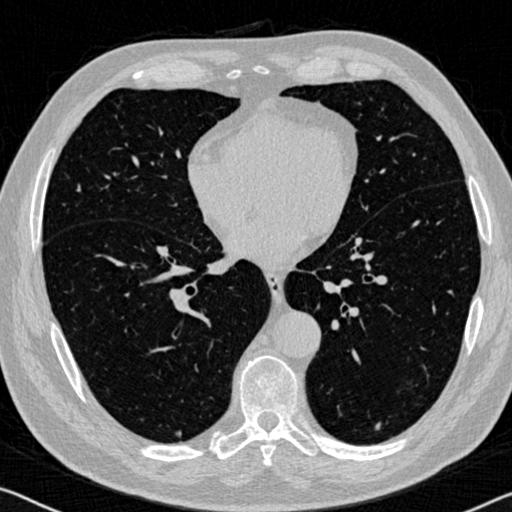nodule: (373, 420, 384, 431)
